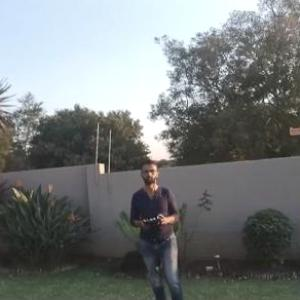follow: (125, 149, 188, 299)
